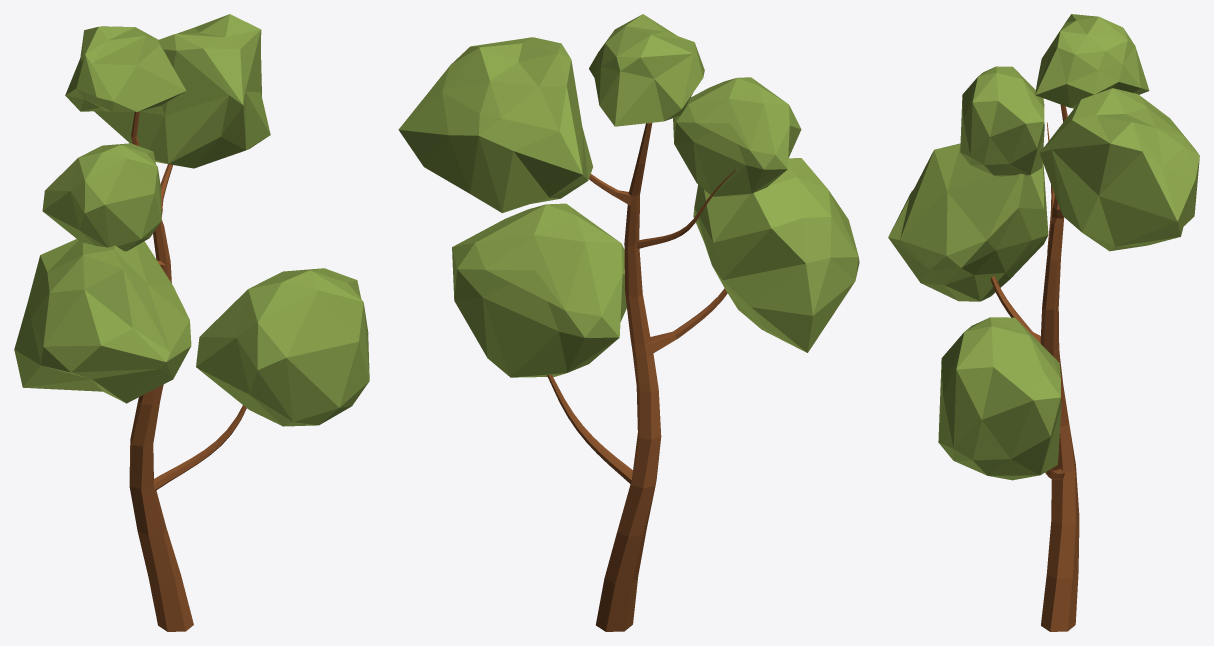
Rendered from Drzewo6.fbx.
3 renders of one model, left to right at view 1: azimuth 30°, elevation 25°; view 2: azimuth 150°, elevation 25°; view 3: azimuth 270°, elevation 25°, orthographic. The views are drawn at different scales.
Parts seen in each view (by area): view 1: Cylinder.014; view 2: Cylinder.014; view 3: Cylinder.014.
Boxes of the visible parts, x1,y1,x2,y2 form: Cylinder.014: (14, 14, 369, 631); Cylinder.014: (398, 14, 859, 631); Cylinder.014: (888, 14, 1199, 631).
Size of the model in its own units: 1326 by 2145 by 1042.
